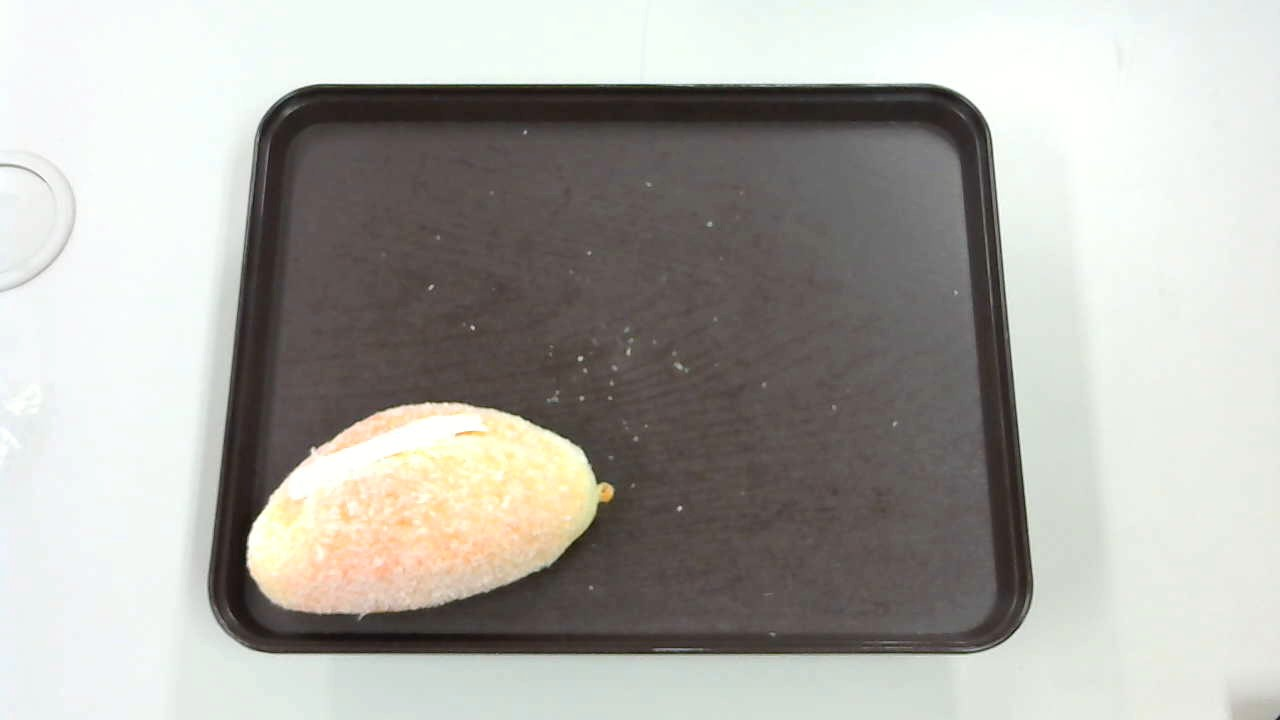coconut: (245, 402, 613, 619)
